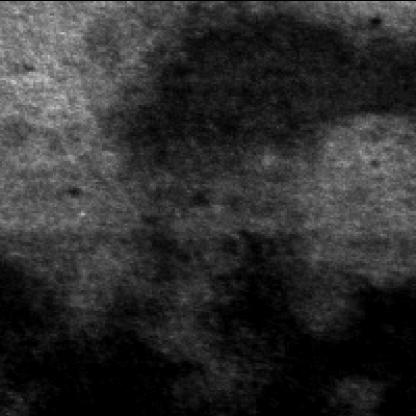patches: (118, 13, 414, 194), (0, 264, 198, 416), (212, 272, 414, 416)
